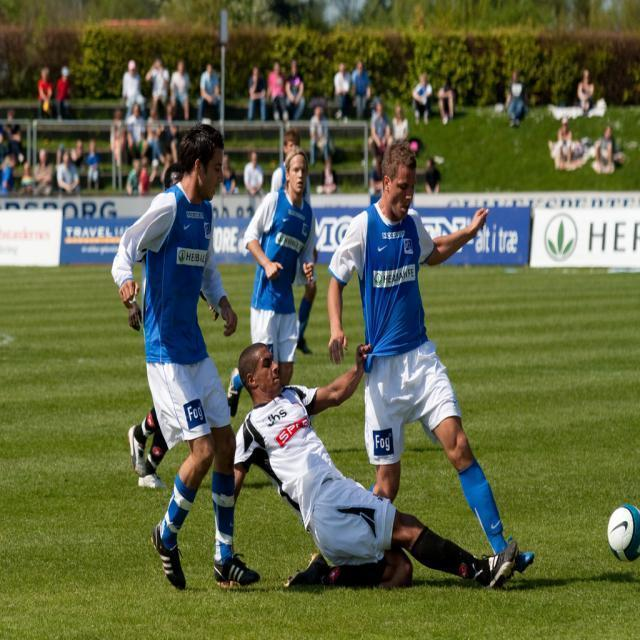ball: (606, 505, 640, 560)
